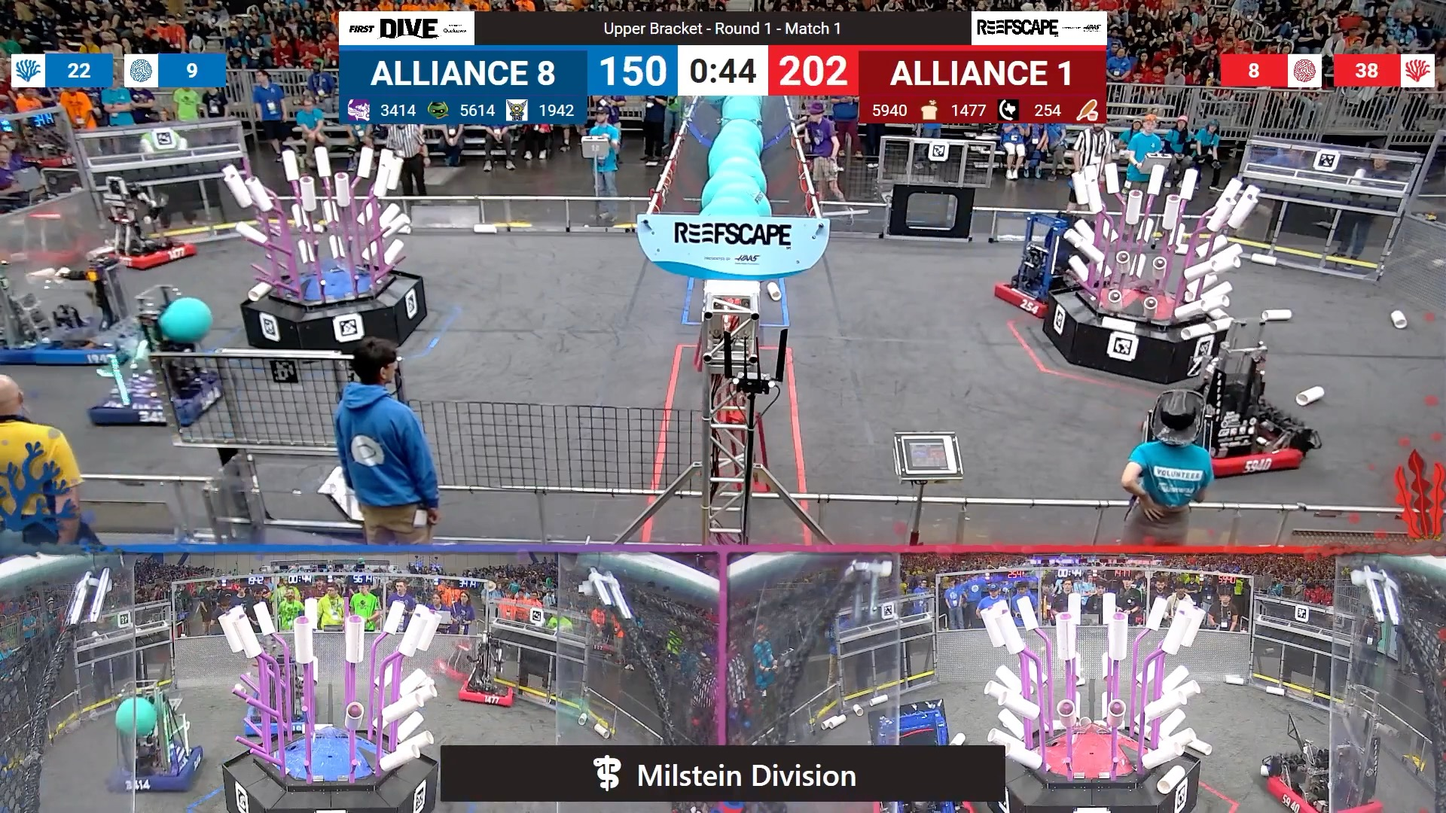bumpers: (86, 369, 236, 436), (1177, 415, 1311, 484), (0, 319, 127, 381), (1251, 762, 1391, 813), (106, 739, 213, 797), (91, 242, 205, 276), (988, 278, 1065, 320), (454, 678, 521, 708)
